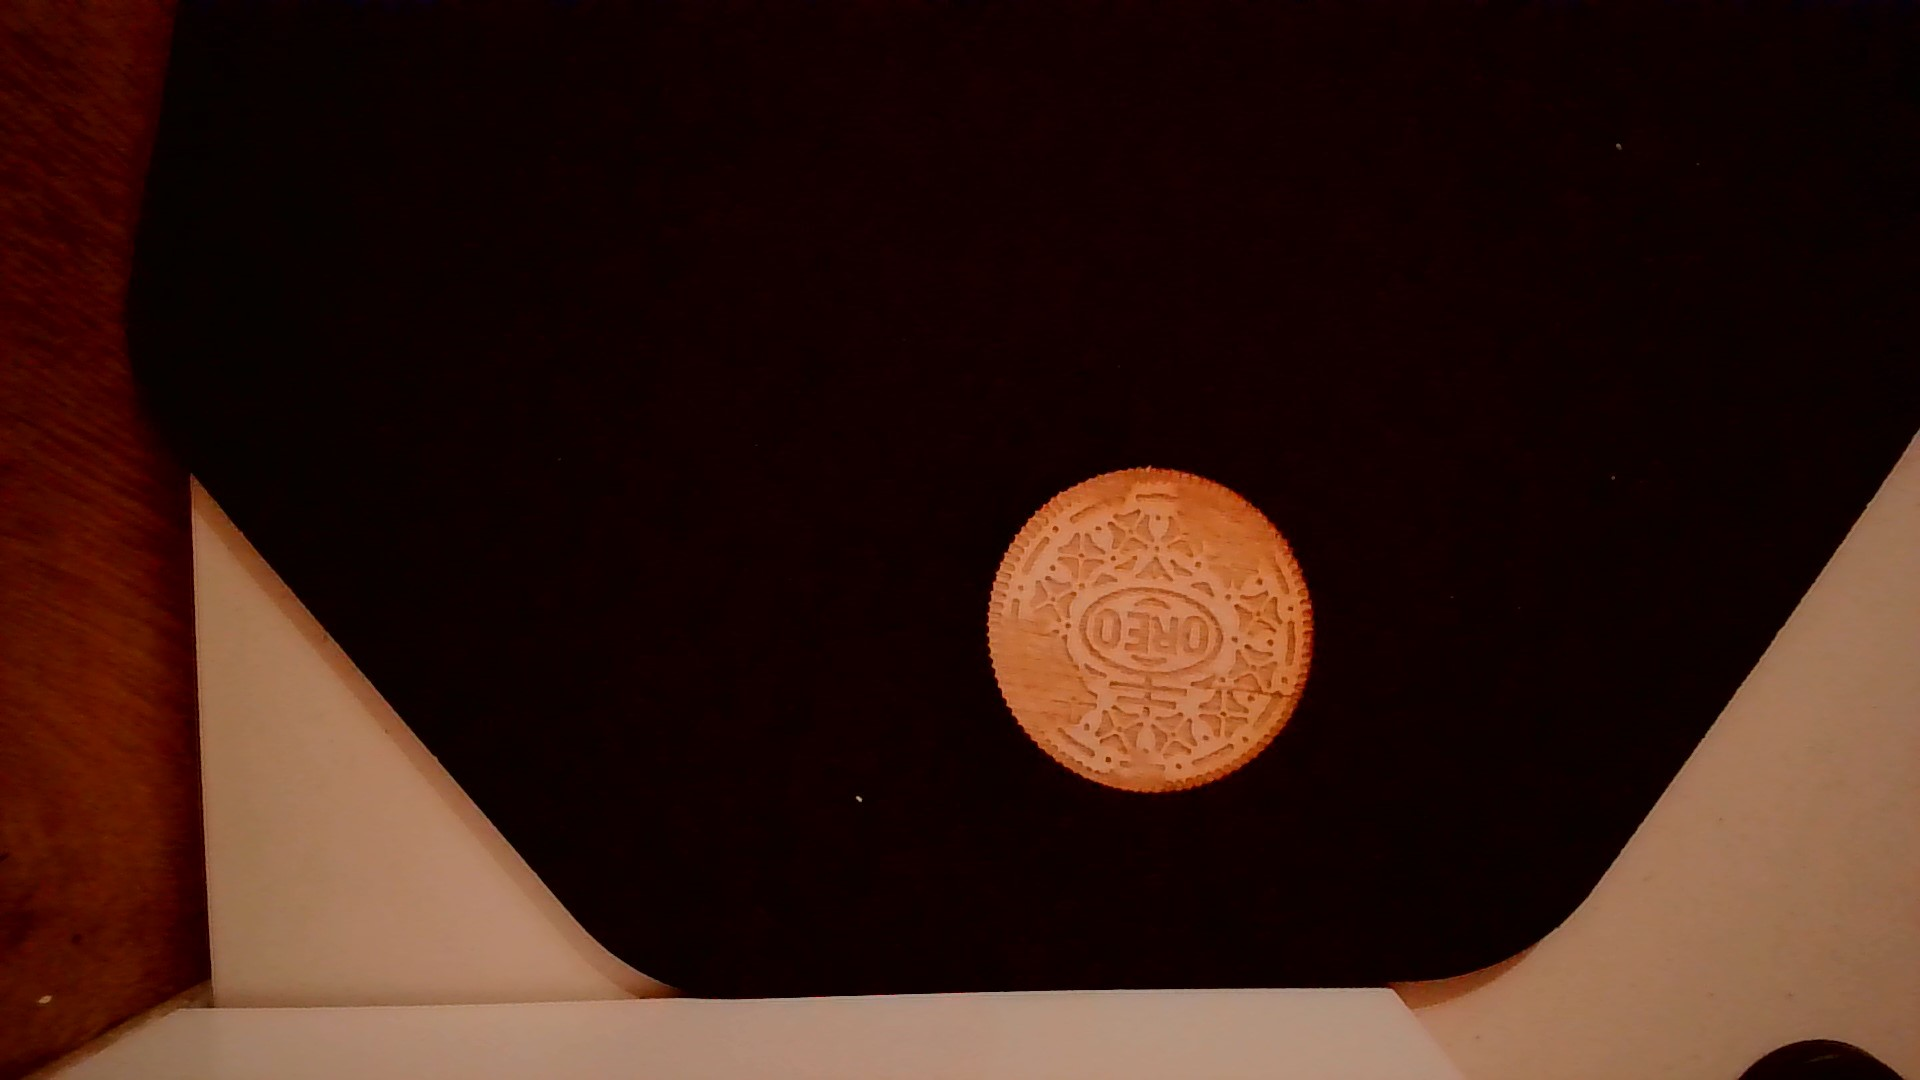Effacé: (986, 615, 1087, 732), (1178, 479, 1283, 585), (1077, 468, 1135, 506)
Oréo: (982, 458, 1320, 802)
